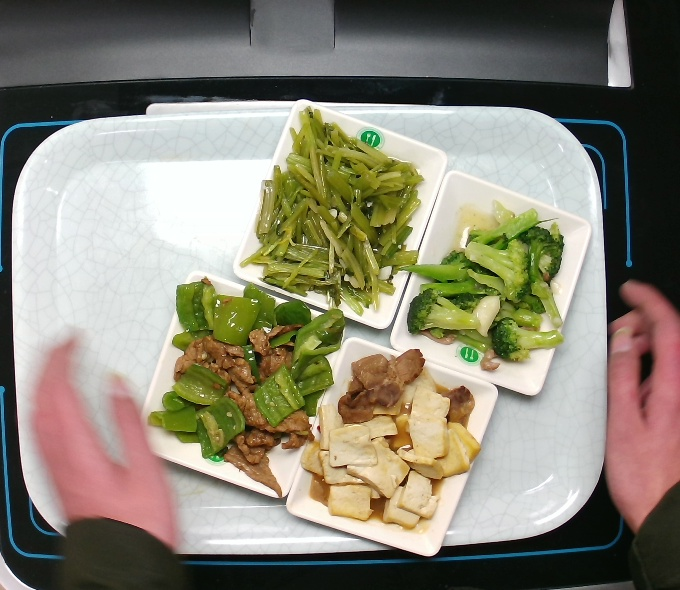wcq-DouFuRouPian: (312, 351, 491, 529)
wcq-QinCai: (252, 110, 421, 316)
wcq-QingJiaoChaoRou: (148, 275, 334, 502)
wcq-XiLanHua: (410, 207, 577, 362)
